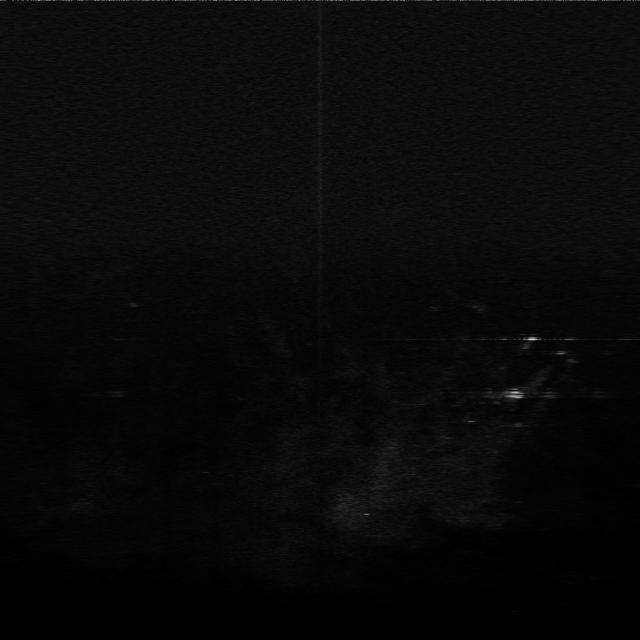rov: (502, 387, 526, 400)
